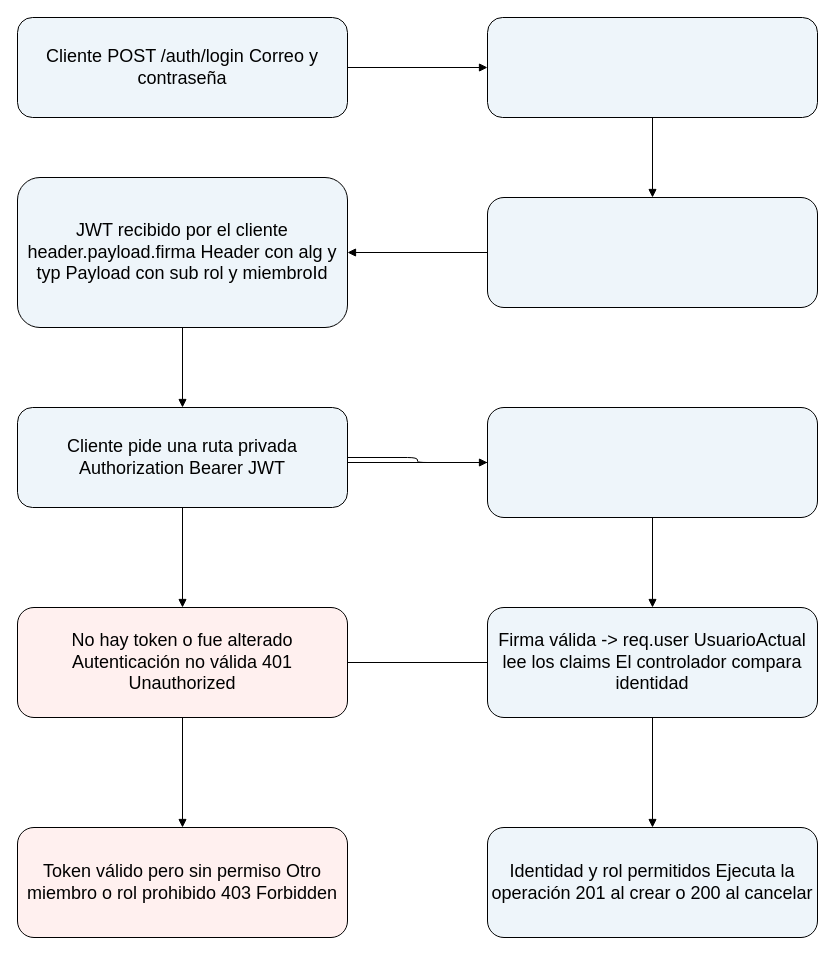
The diagram is 835 pixels wide and 955 high, and some of its shapes have lost their labels. The box of each missing label's shape, as (x1, y1, x2, y2) in pixels:
AuthService y bcrypt compare con el passwordHash Credenciales incorrectas -> 401: (486, 16, 818, 118)
JwtAuthGuard y JwtStrategy Verifican firma y exp: (486, 406, 818, 518)
Servidor firma con JWT_SECRET HS256 y caducidad de una hora: (486, 196, 818, 308)
